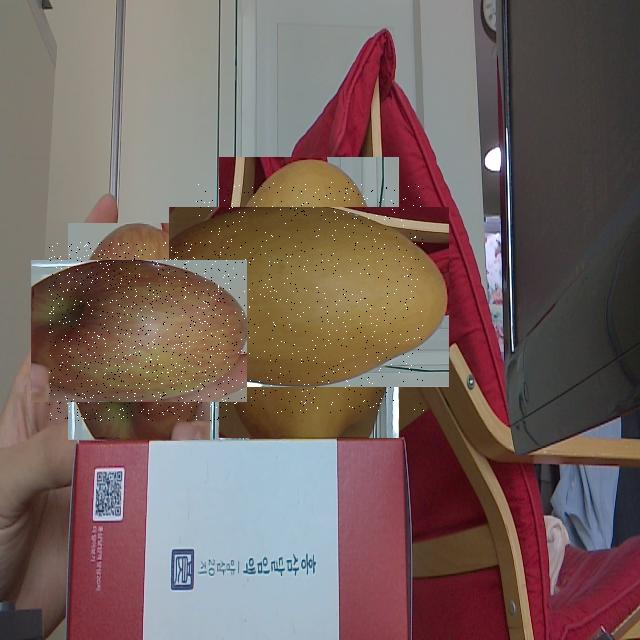apple: (49, 242, 229, 421)
pear: (194, 182, 424, 413)
